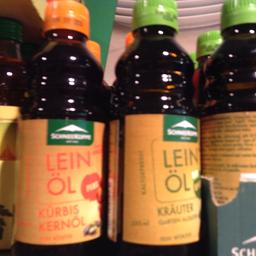oil: (10, 0, 108, 254), (108, 0, 202, 254)
